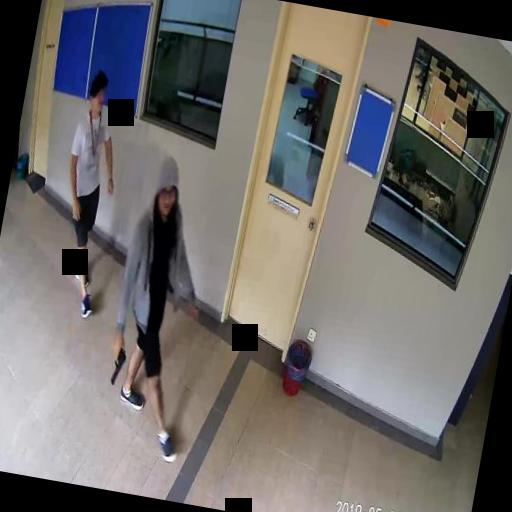Handgun: (106, 340, 126, 384)
